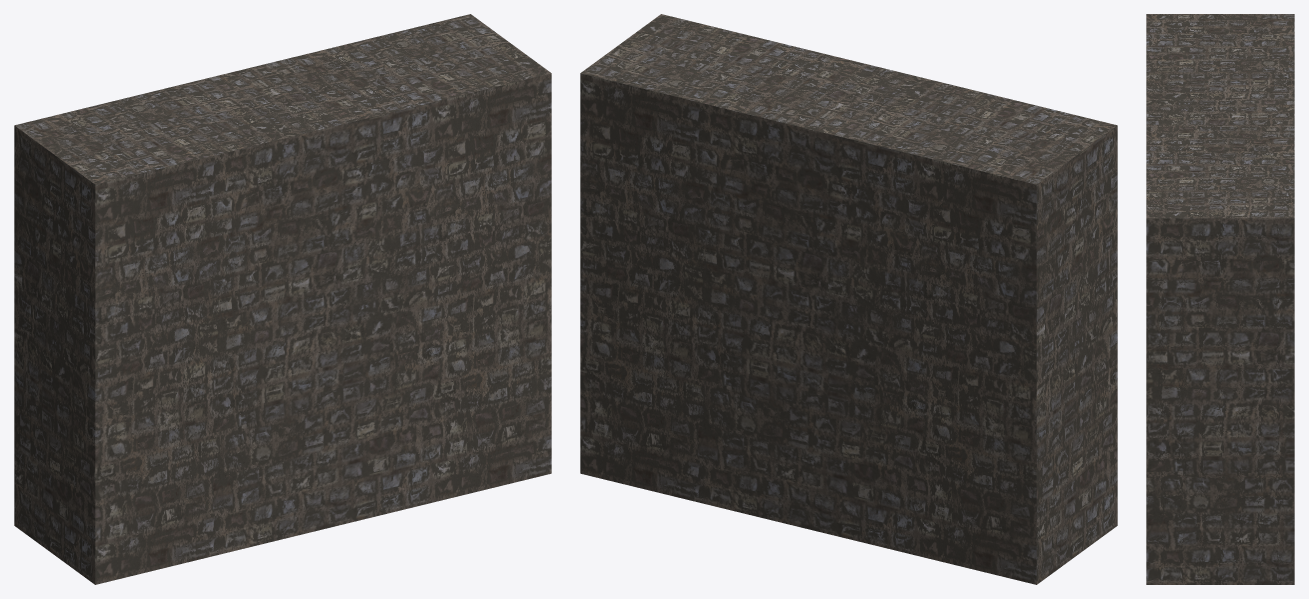
File: StairsBlock.fbx
The picture shows the model from 3 angles, left to right: view 1: azimuth 30°, elevation 25°; view 2: azimuth 150°, elevation 25°; view 3: azimuth 270°, elevation 25°; orthographic projection. The views are drawn at different scales.
Parts seen in each view (by area): view 1: StairsBlock; view 2: StairsBlock; view 3: StairsBlock.
Part boxes in pixels (box(x1,y1,x2,y2)): StairsBlock: box(14, 14, 551, 584); StairsBlock: box(580, 14, 1117, 584); StairsBlock: box(1146, 14, 1294, 584).
Size of the model in its own units: 427 by 358 by 131.
